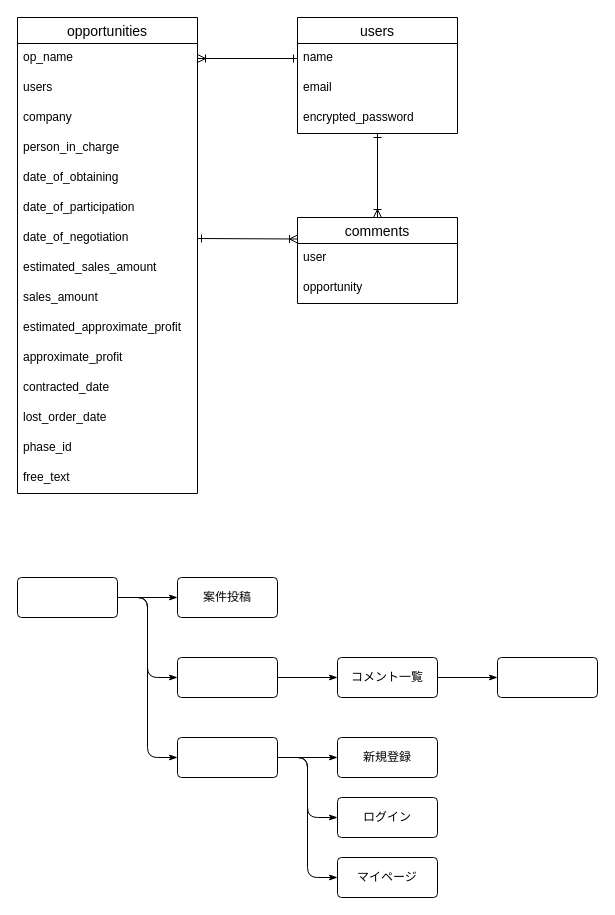
Some shapes in this 615 by 915 pixel diagram are drawn without their labels. Each missing label, with the centre of its shape:
"コメント投稿" goes at pixel 547 677.
"ユーザー管理" goes at pixel 227 757.
"案件一覧" goes at pixel 67 597.
"案件詳細" goes at pixel 227 677.
